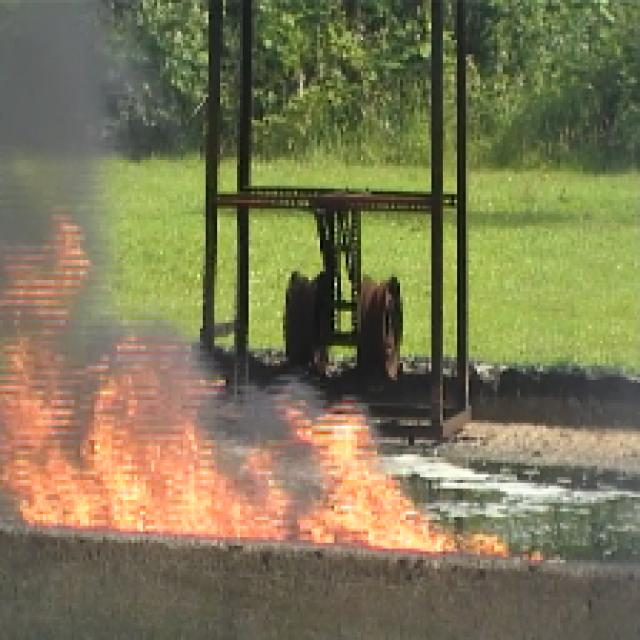fire: (11, 394, 386, 543)
smoke: (10, 12, 94, 181)
